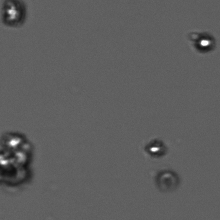Dead Cell: (1, 133, 35, 186), (1, 1, 28, 29), (156, 170, 179, 192)
Living Cell: (145, 140, 163, 157), (196, 35, 211, 51)
